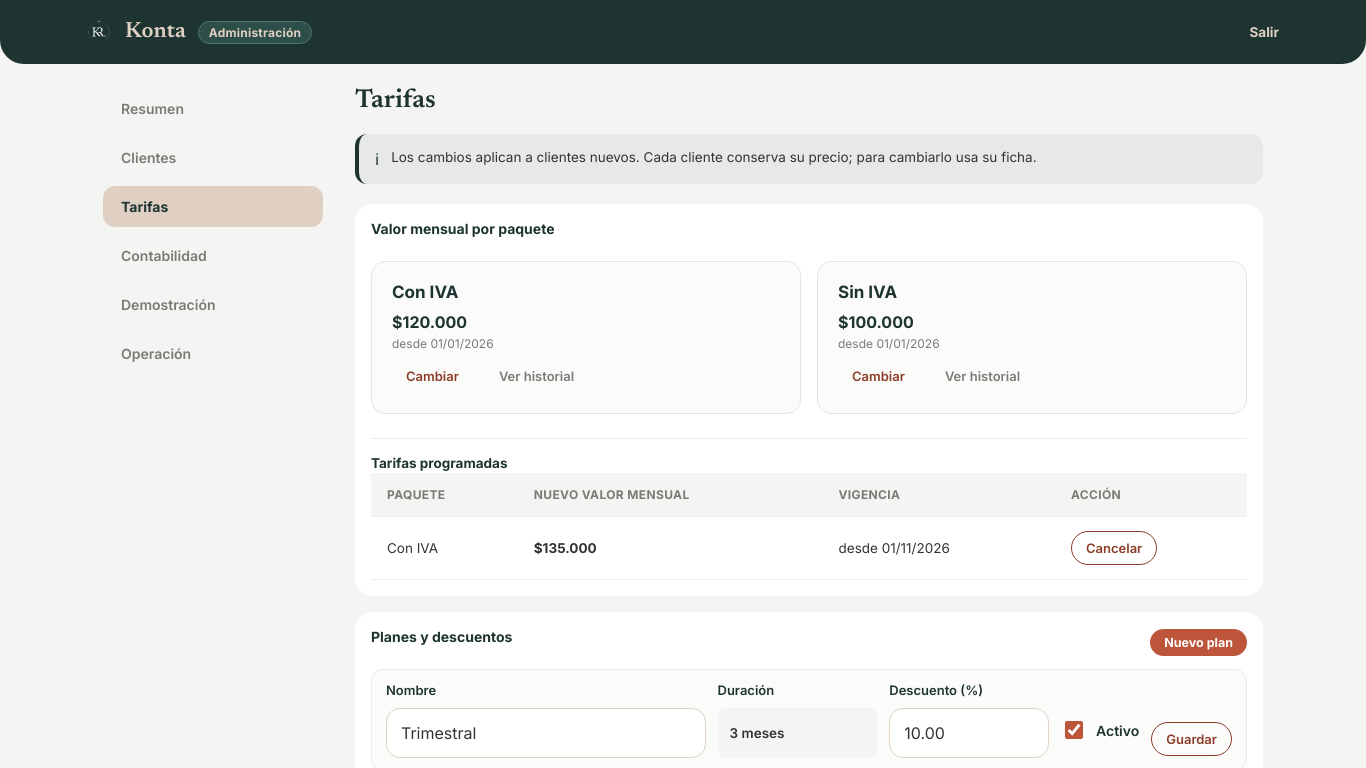
Test case: Story 9.3: Panel web — Tarifas, precio del cliente y aviso de monto › Pantalla Tarifas (/admin/tarifas) — AC #1 a #5 › tarifas programadas: muestra lista y cancelar abre confirmación y envía DELETE (AC #1)
This screenshot has width=1366, height=768.
Check: the heading "Tarifas programadas" is shown, box [371,455,508,471]
Check: the text "$135.000" is shown, box [534,540,597,556]
Click the button "Cancelar" at (1114, 548), box [1071,531,1157,565]
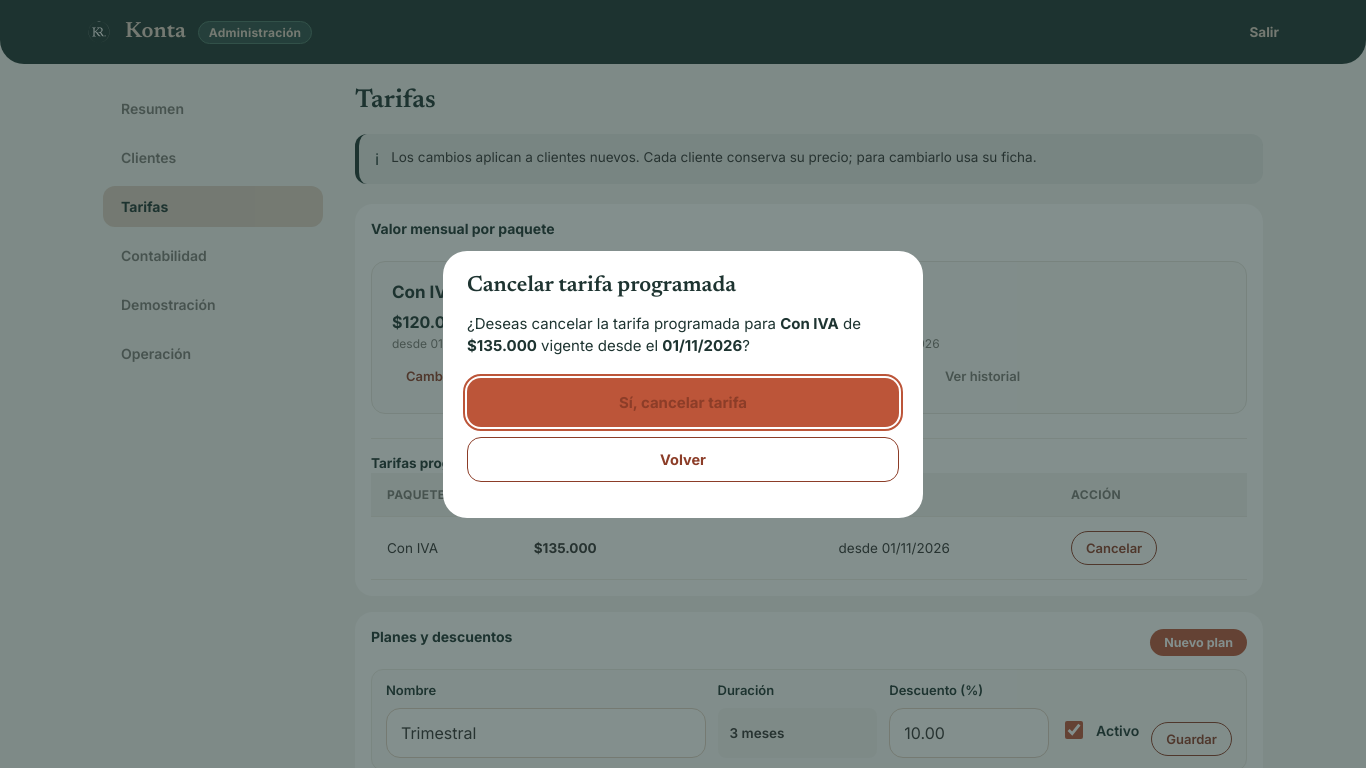
Check: the dialog "Cancelar tarifa programada" is shown, box [443,250,923,518]
Click the button "Sí, cancelar tarifa" at (683, 402), box [467,378,899,426]
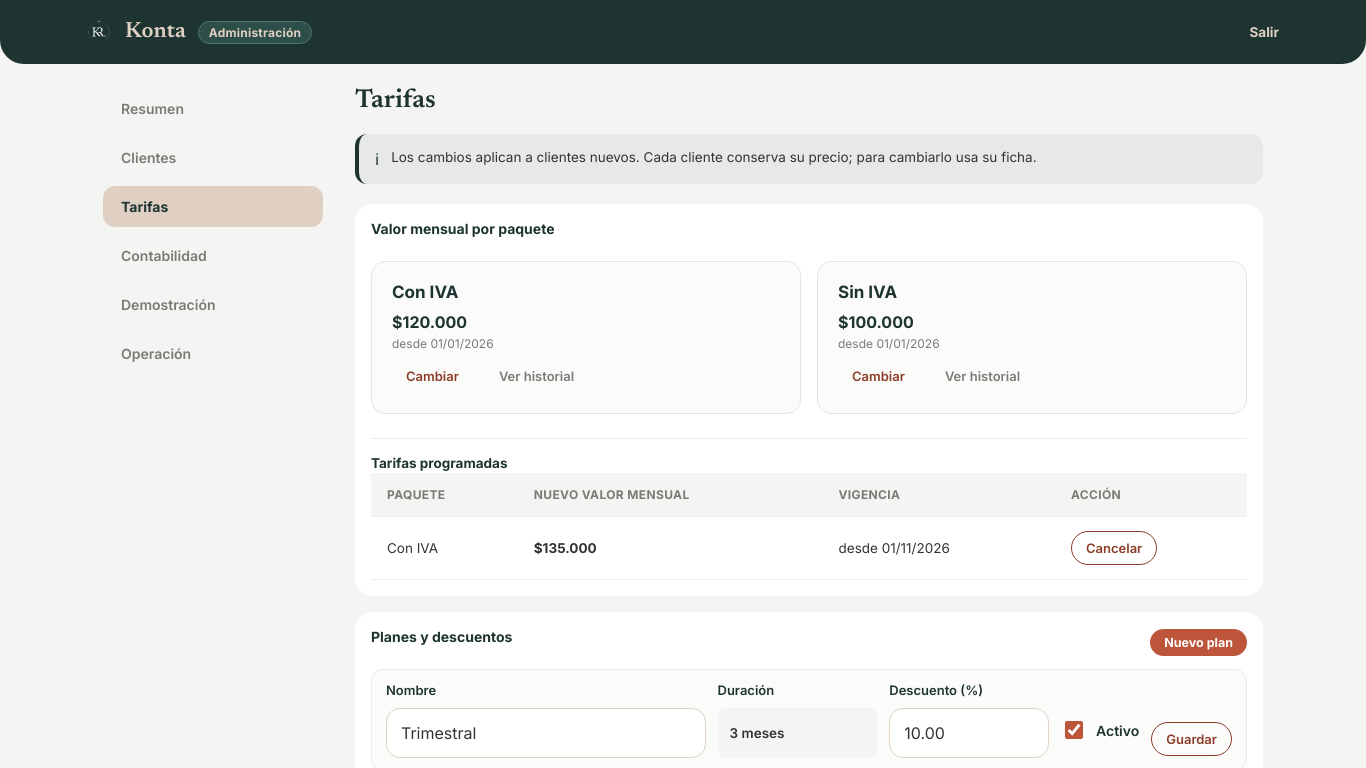
Check: the dialog is gone
